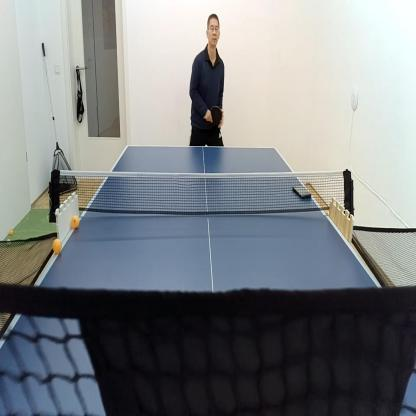Ball: (54, 239, 62, 252), (72, 215, 79, 228), (6, 238, 10, 245), (10, 230, 13, 235)
